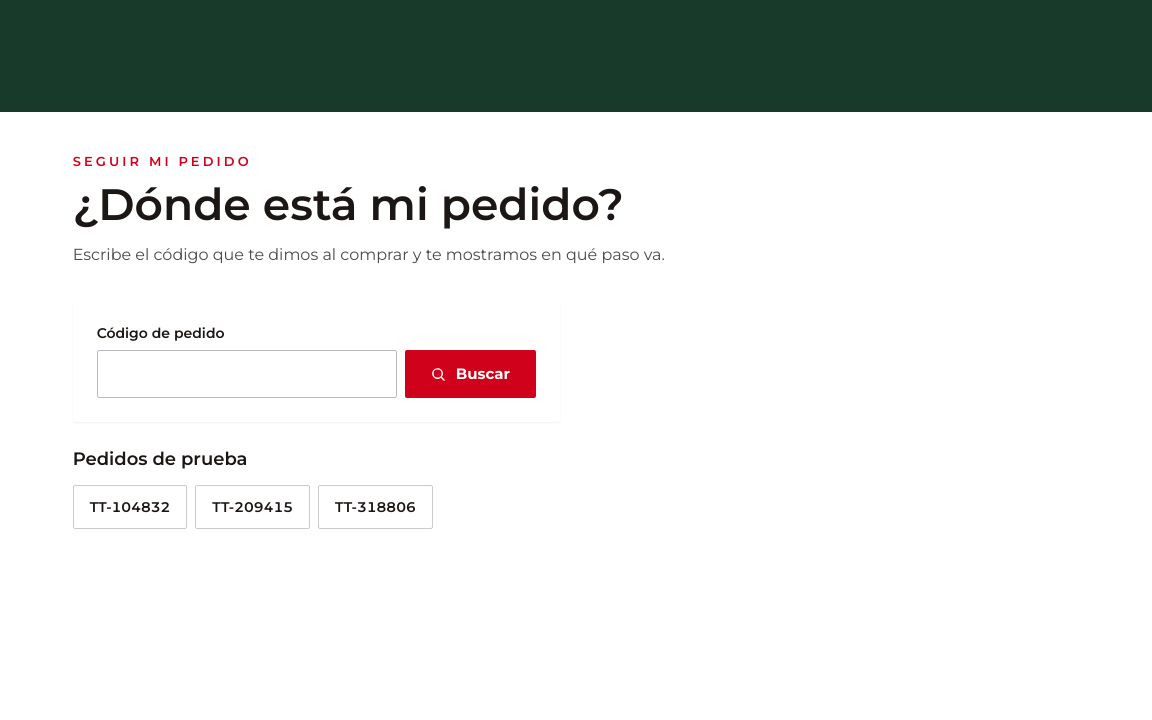
Test: PedidosPage › busca un código escrito en minúsculas y lo guarda en la URL
Type "tt-209415" into the field labelled "Código de pedido".
click(247, 374); type("tt-209415")  # box [97, 350, 397, 398]
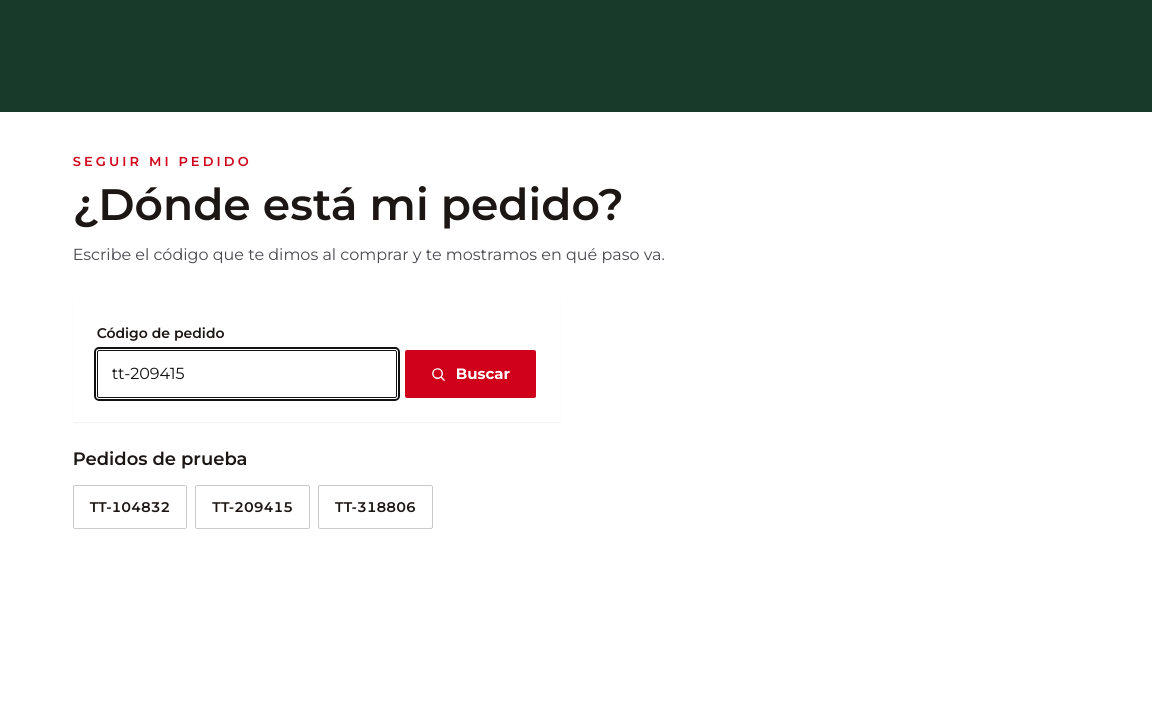
Click the button "Buscar".
click(470, 374)  # box [405, 350, 536, 398]
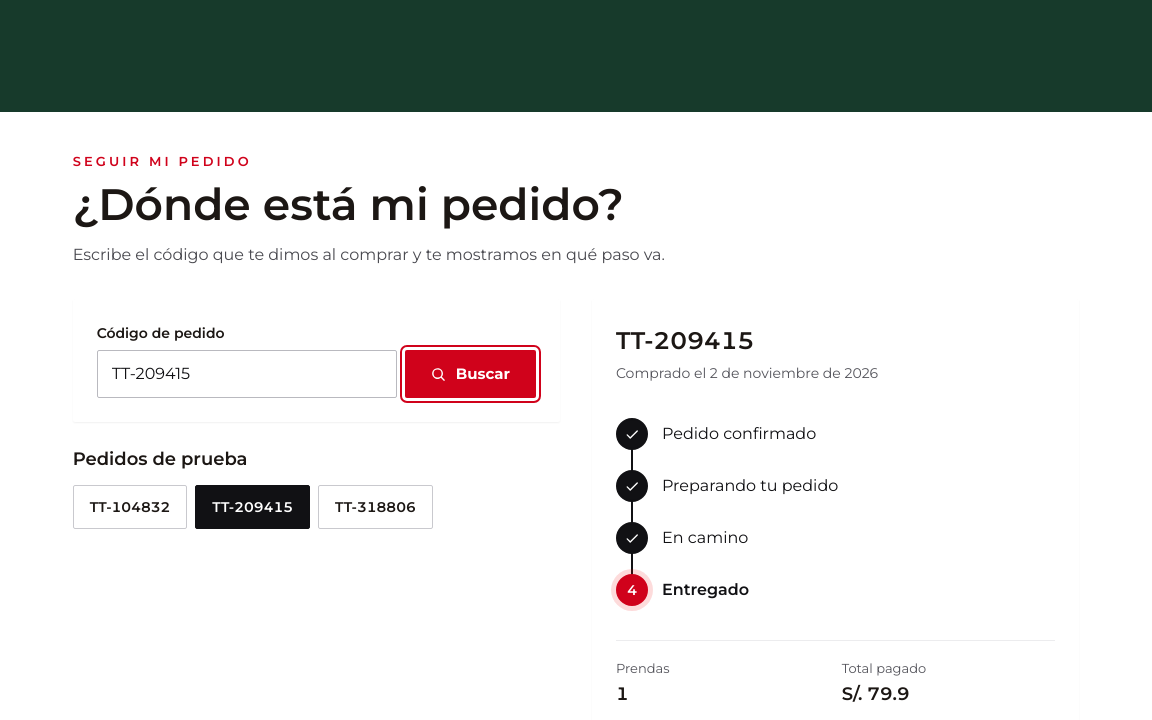
Expected: the heading "TT-209415" is shown, [616, 326, 754, 355]
